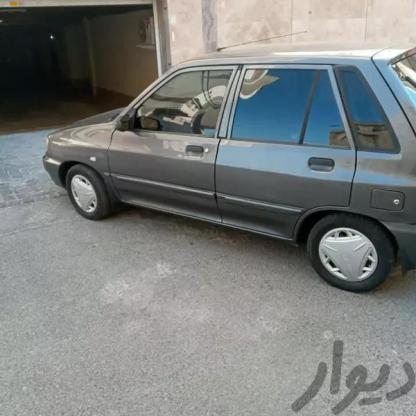Car: (40, 44, 416, 300)
